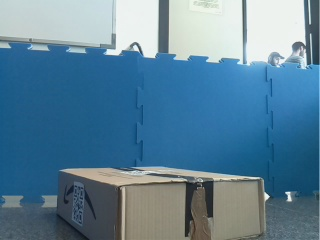caja: (56, 162, 267, 240)
